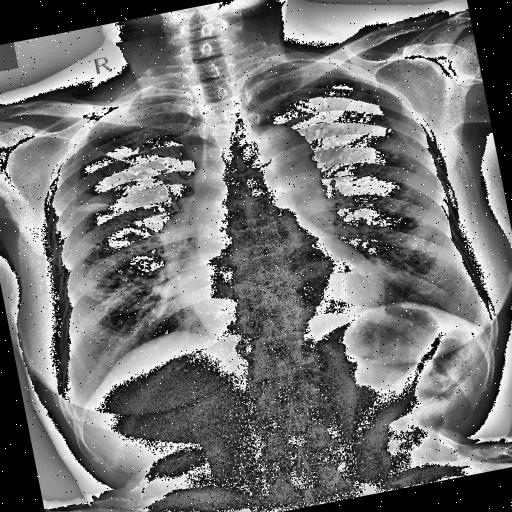0- Aortic enlargement: (246, 116, 324, 198), (238, 117, 320, 188), (236, 118, 318, 188)
13- Pulmonary fibrosis: (54, 194, 110, 222), (60, 197, 108, 219), (61, 197, 108, 218)
2- Calcification: (60, 197, 108, 219), (61, 197, 108, 218)
